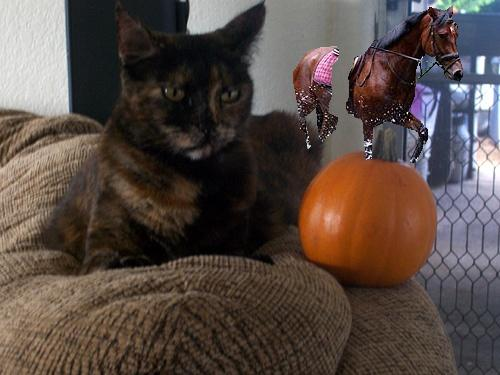tampered: (294, 6, 463, 163)
